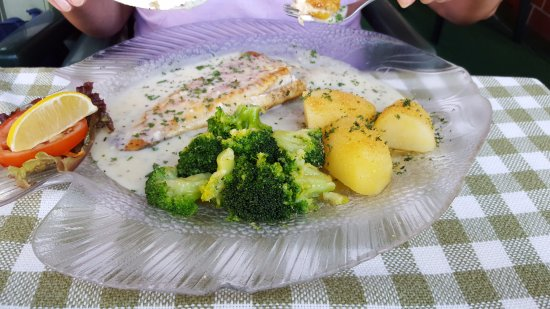boiled potatoes: (321, 92, 414, 173)
